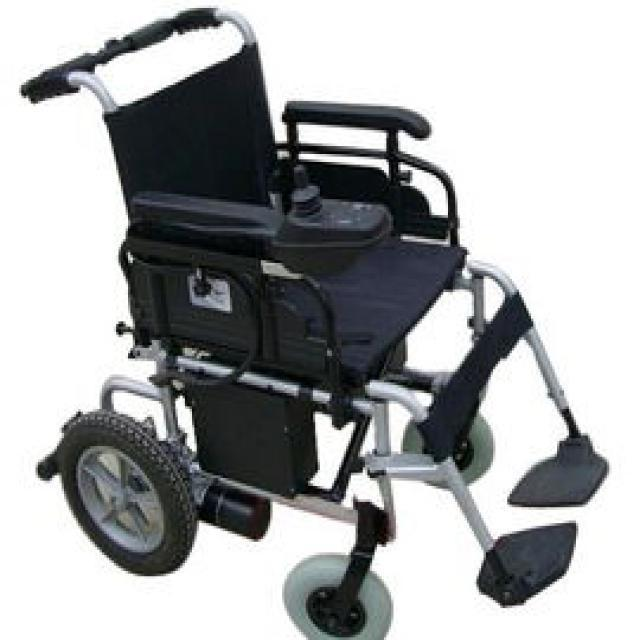wheelchairs: (23, 8, 600, 640)
